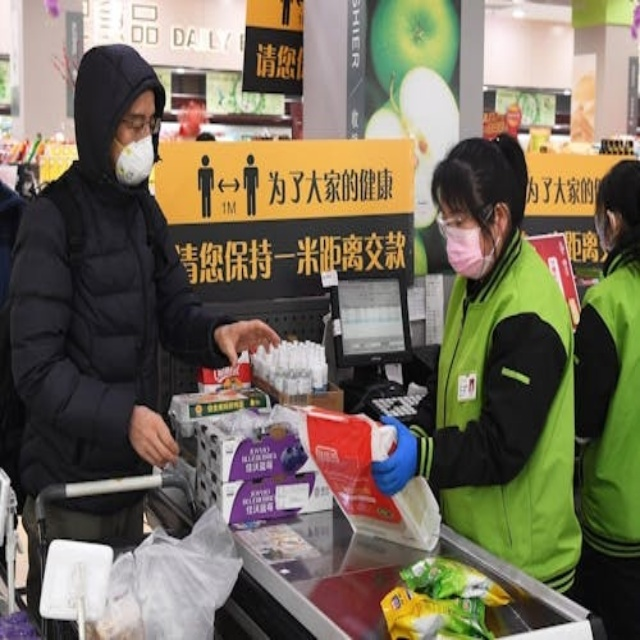Gafas: (436, 203, 489, 236), (120, 114, 160, 135)
Guantes: (373, 417, 419, 496)
Mascara: (442, 211, 497, 277), (113, 132, 156, 185), (594, 208, 619, 254)
Sin_guantes: (214, 312, 284, 367), (129, 404, 182, 467)
